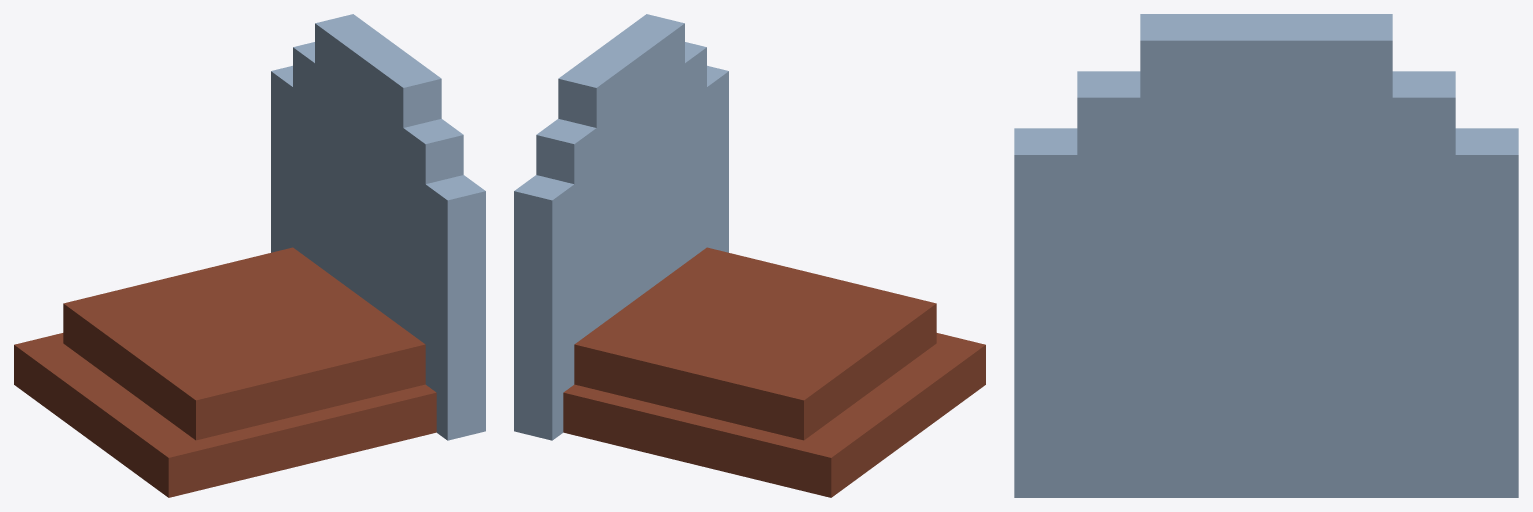
The model's file is tomb-01.obj.
3 views of the same model, side by side, from view 1: azimuth 30°, elevation 25°; view 2: azimuth 150°, elevation 25°; view 3: azimuth 270°, elevation 25° (orthographic). The views are drawn at different scales.
Size of the model in its own units: 8 by 8 by 8.
Materials: 1 (1 with a texture image).
